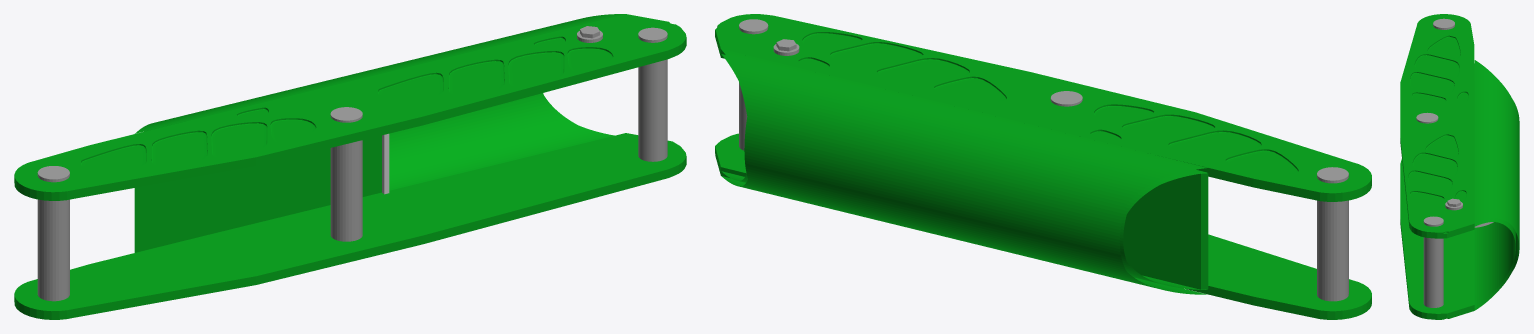
The model's file is UpperArm.dae.
3 views of the same model, side by side, from view 1: azimuth 30°, elevation 25°; view 2: azimuth 150°, elevation 25°; view 3: azimuth 270°, elevation 25° (orthographic). The views are drawn at different scales.
Parts seen in each view (by area): view 1: Slave_Arm_Body, Slave_Arm_Sheetmetal_Case, Slave_Arm_Reinforcement, Slave_Arm_B_Cut_Main_Pin, Slave_Arm_B_Cut_Cylinder_Mount_Pin, Slave_Arm_Elbow_Hinge_Pin, Slave_Arm_Sheetmetal_Case_001; view 2: Slave_Arm_Sheetmetal_Case, Slave_Arm_Body, Slave_Arm_Reinforcement, Slave_Arm_B_Cut_Main_Pin, Slave_Arm_Elbow_Hinge_Pin; view 3: Slave_Arm_Body, Slave_Arm_Sheetmetal_Case, Slave_Arm_Elbow_Hinge_Pin, Slave_Arm_B_Cut_Main_Pin, Slave_Arm_B_Cut_Cylinder_Mount_Pin, Slave_Arm_Upper_Side_Bolts.
Part boxes in pixels (x1,y1,x2,y2): Slave_Arm_Body: (14,14,686,319); Slave_Arm_Sheetmetal_Case: (135,14,624,190); Slave_Arm_Reinforcement: (134,135,381,252); Slave_Arm_B_Cut_Main_Pin: (37,166,69,301); Slave_Arm_B_Cut_Cylinder_Mount_Pin: (330,107,362,241); Slave_Arm_Elbow_Hinge_Pin: (638,27,667,161); Slave_Arm_Sheetmetal_Case_001: (382,133,389,194); Slave_Arm_Sheetmetal_Case: (721,49,1207,294); Slave_Arm_Body: (715,14,1371,319); Slave_Arm_Reinforcement: (1123,173,1208,289); Slave_Arm_B_Cut_Main_Pin: (1317,167,1348,301); Slave_Arm_Elbow_Hinge_Pin: (739,19,768,150); Slave_Arm_Body: (1400,14,1474,319); Slave_Arm_Sheetmetal_Case: (1474,60,1519,310); Slave_Arm_Elbow_Hinge_Pin: (1423,216,1443,307); Slave_Arm_B_Cut_Main_Pin: (1433,18,1454,29); Slave_Arm_B_Cut_Cylinder_Mount_Pin: (1416,112,1438,123); Slave_Arm_Upper_Side_Bolts: (1445,198,1462,210).
Bounding box in the file's own units: 0.6168 × 0.1419 × 0.1278.
